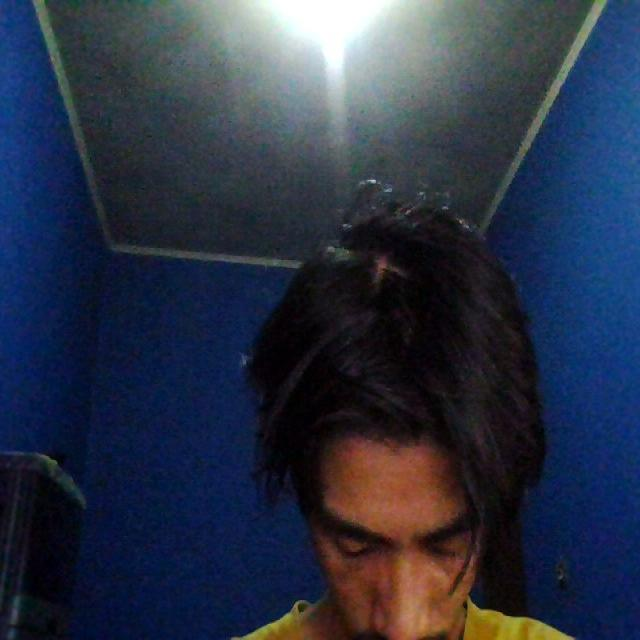Melihat Kebawah: (242, 205, 530, 633)
